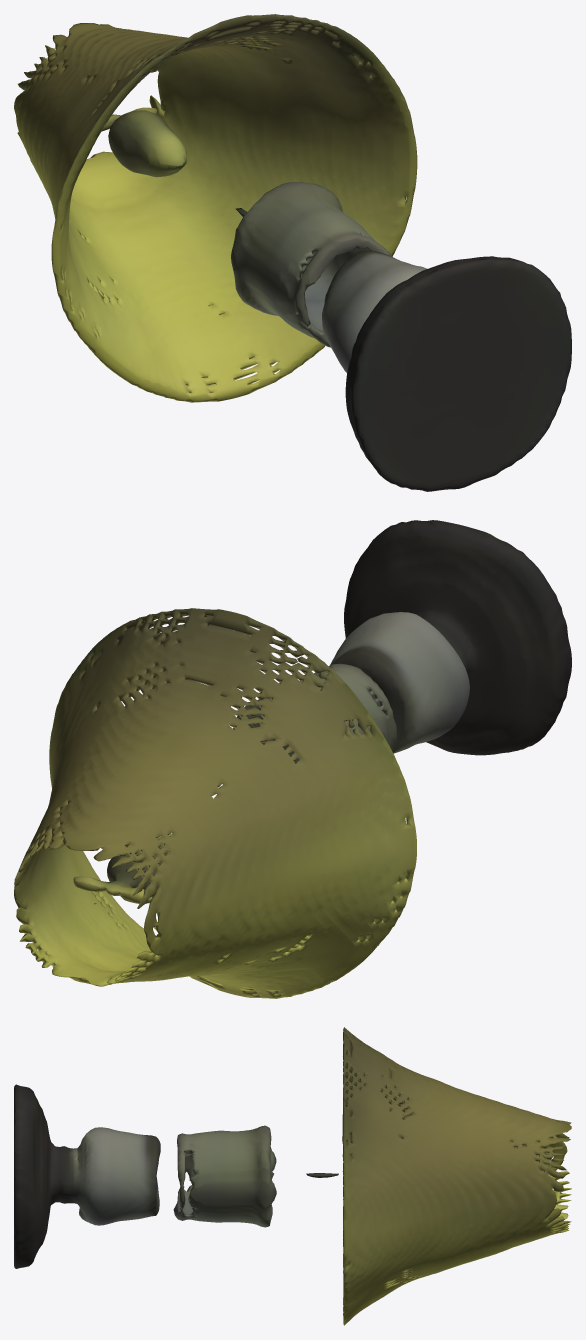
3 renders of one model, top to bottom at view 1: azimuth 30°, elevation 25°; view 2: azimuth 150°, elevation 25°; view 3: azimuth 270°, elevation 25°, orthographic. The views are drawn at different scales.
Parts seen in each view (by area): view 1: plyFile; view 2: plyFile; view 3: plyFile.
Boxes of the visible parts, left/top/right/bottom form: plyFile: left=14, top=14, right=571, bottom=491; plyFile: left=14, top=520, right=571, bottom=998; plyFile: left=14, top=1027, right=571, bottom=1325.
Bounding box in the file's own units: 108 × 107 × 198.
